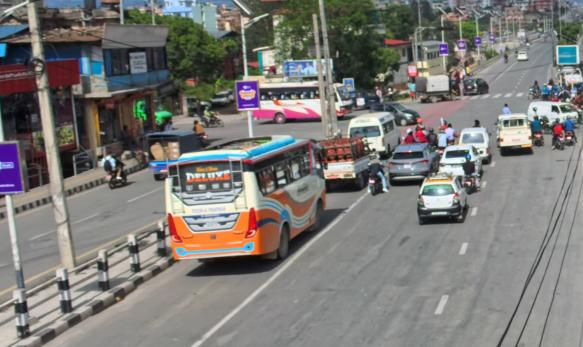bus: (160, 131, 332, 273)
